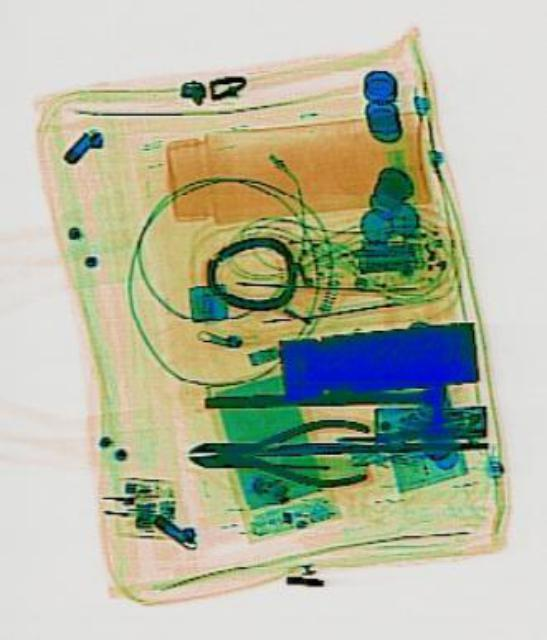Pliers: (184, 416, 365, 484)
